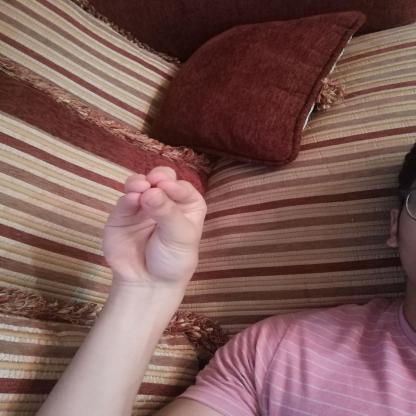HA: (78, 155, 233, 302)
